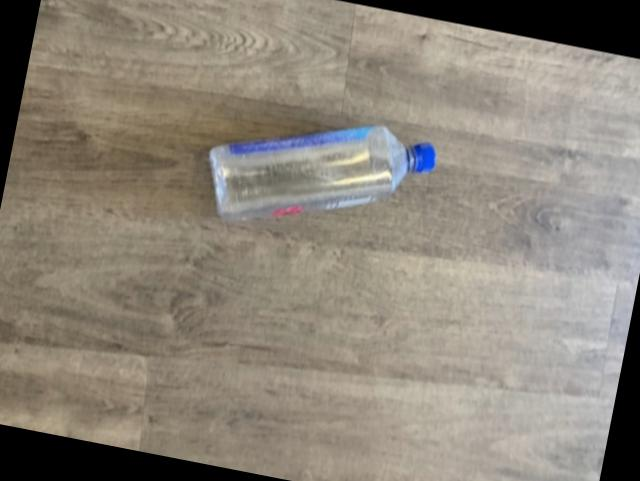plastic: (208, 126, 433, 221)
